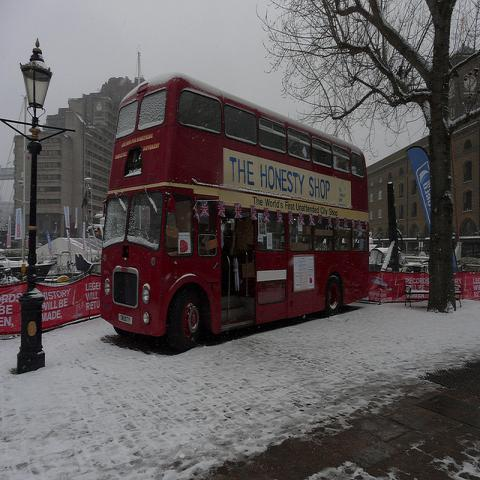bus: (96, 77, 370, 346)
